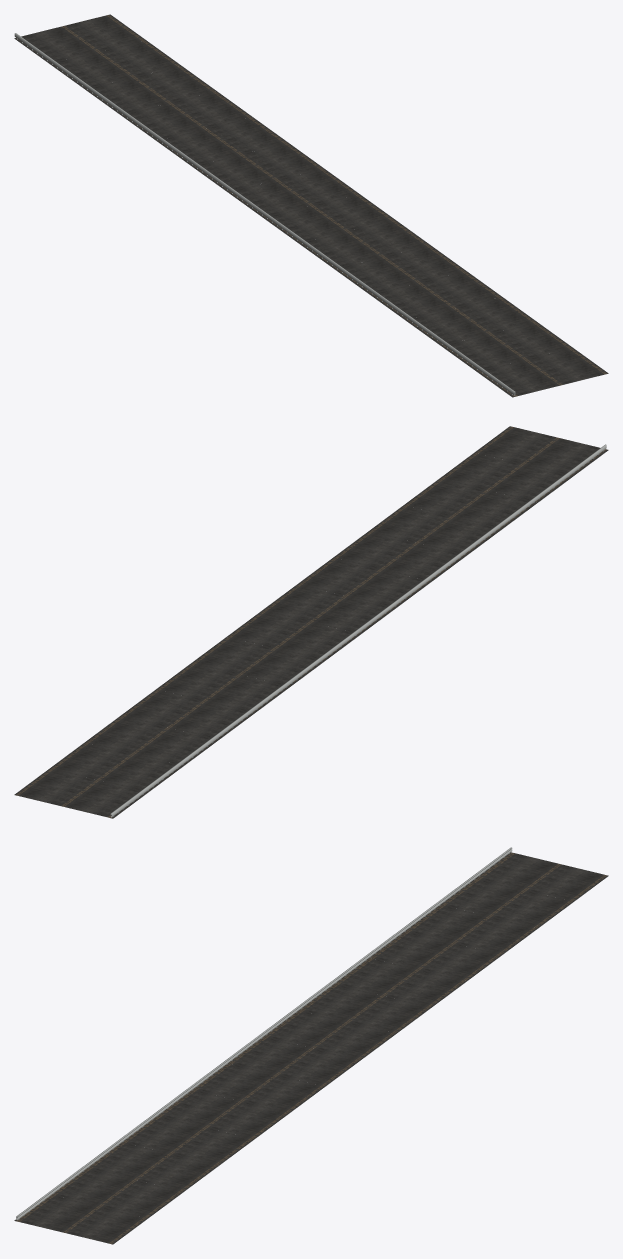
The model's file is Streight road.obj.
3 renders of one model, top to bottom at view 1: azimuth 30°, elevation 25°; view 2: azimuth 150°, elevation 25°; view 3: azimuth 330°, elevation 25°, orthographic.
Visible parts, largest first — view 1: Plane_Plane.013, Plane.003_Plane.012; view 2: Plane_Plane.013, Plane.003_Plane.012; view 3: Plane_Plane.013, Plane.003_Plane.012.
Part boxes in pixels (left/top/right/bottom): Plane_Plane.013: left=14, top=14, right=608, bottom=397; Plane.003_Plane.012: left=14, top=33, right=515, bottom=395; Plane_Plane.013: left=14, top=426, right=608, bottom=818; Plane.003_Plane.012: left=110, top=444, right=606, bottom=817; Plane_Plane.013: left=14, top=852, right=608, bottom=1244; Plane.003_Plane.012: left=16, top=847, right=512, bottom=1219.
Size of the model in its own units: 13.69 by 0.6059 by 114.
